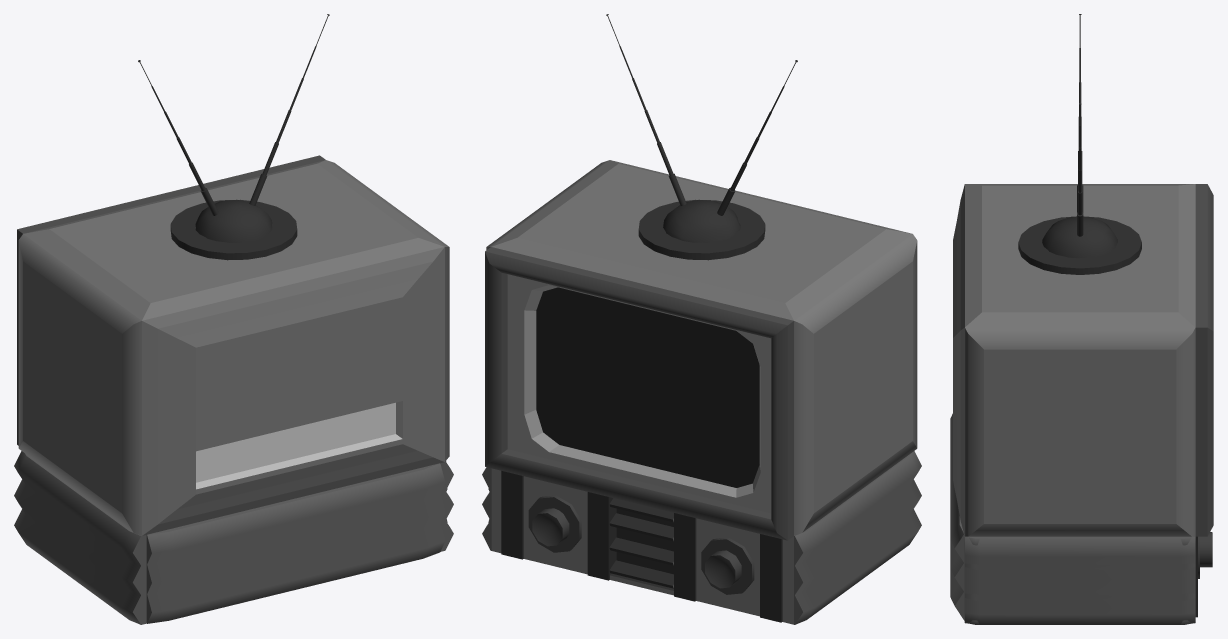
The model's file is TVModel.fbx.
3 renders of one model, left to right at view 1: azimuth 30°, elevation 25°; view 2: azimuth 150°, elevation 25°; view 3: azimuth 270°, elevation 25°, orthographic. The views are drawn at different scales.
Visible parts, largest first — view 1: TVModel; view 2: TVModel; view 3: TVModel.
Boxes of the visible parts, left/top/right/bottom form: TVModel: left=14, top=14, right=453, bottom=624; TVModel: left=482, top=14, right=921, bottom=624; TVModel: left=950, top=14, right=1213, bottom=624.
Size of the model in its own units: 74.73 by 110 by 53.36.
